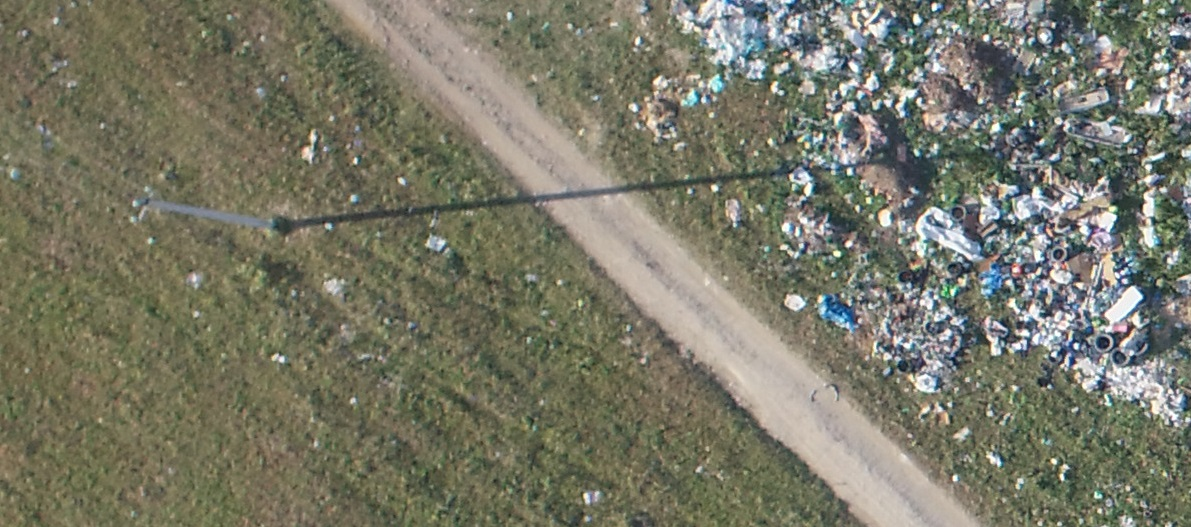opora: (121, 182, 426, 237)
